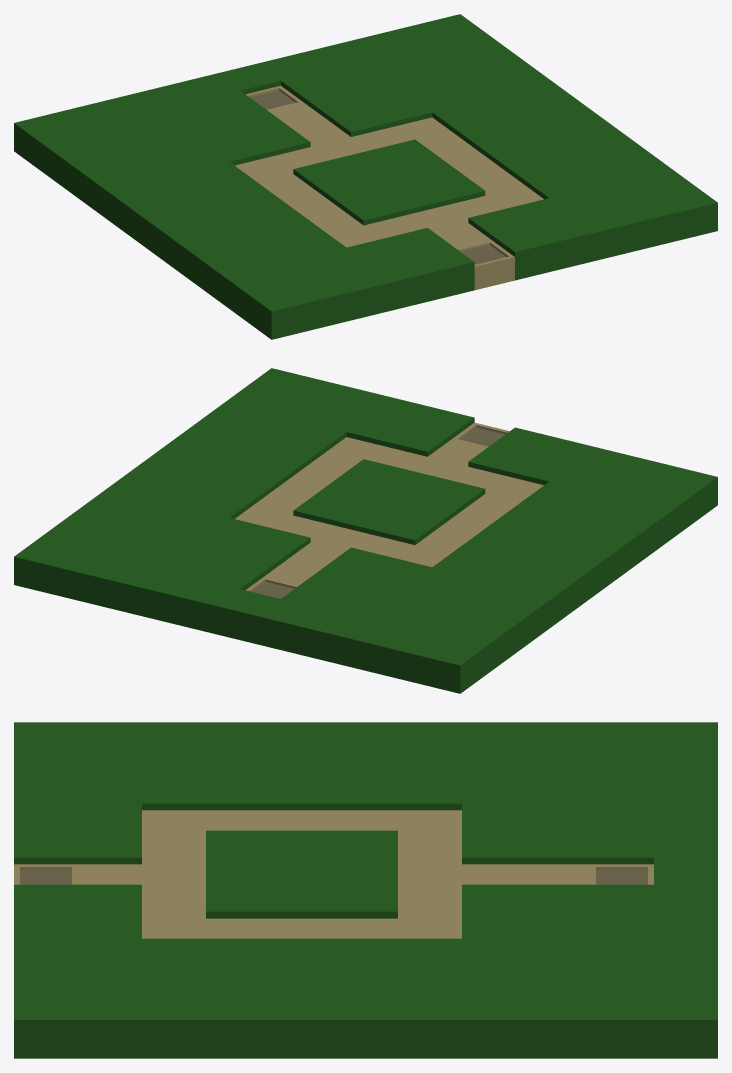
Rendered from Play_Field.glb.
3 views of the same model, one above another, from view 1: azimuth 30°, elevation 25°; view 2: azimuth 150°, elevation 25°; view 3: azimuth 270°, elevation 25° (orthographic). The views are drawn at different scales.
Parts seen in each view (by area): view 1: Plane; view 2: Plane; view 3: Plane.
Part boxes in pixels (bbox=[...]): Plane: bbox=[14, 14, 717, 339]; Plane: bbox=[14, 368, 717, 693]; Plane: bbox=[14, 722, 717, 1058].
Size of the model in its own units: 20 by 1.21 by 20.
